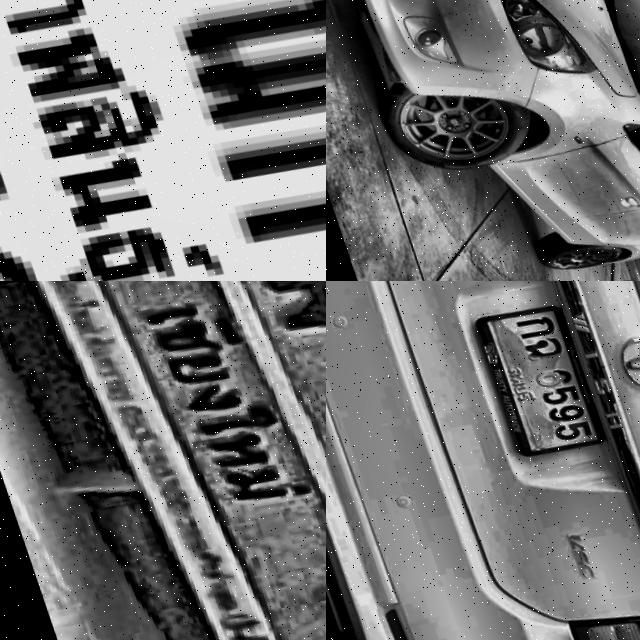license-plate: (0, 281, 326, 640), (0, 0, 326, 281), (461, 287, 606, 461)
